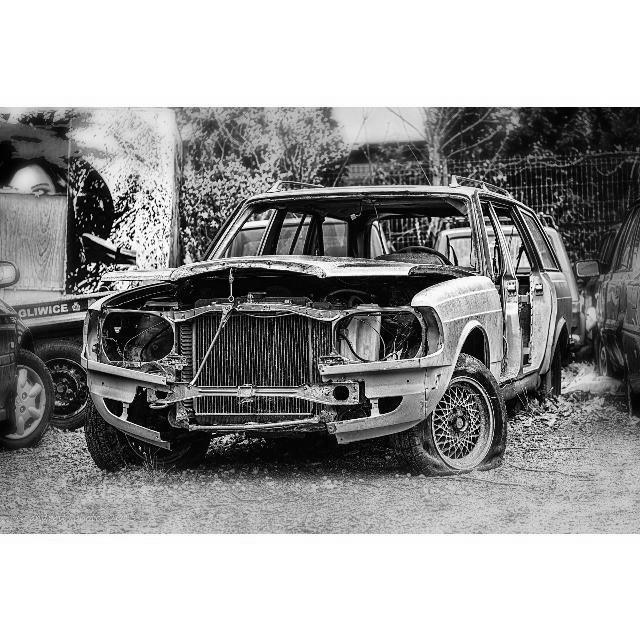Headlight-damage: (314, 290, 470, 378), (70, 284, 209, 366)
front-bumper-dent: (89, 366, 419, 438)
